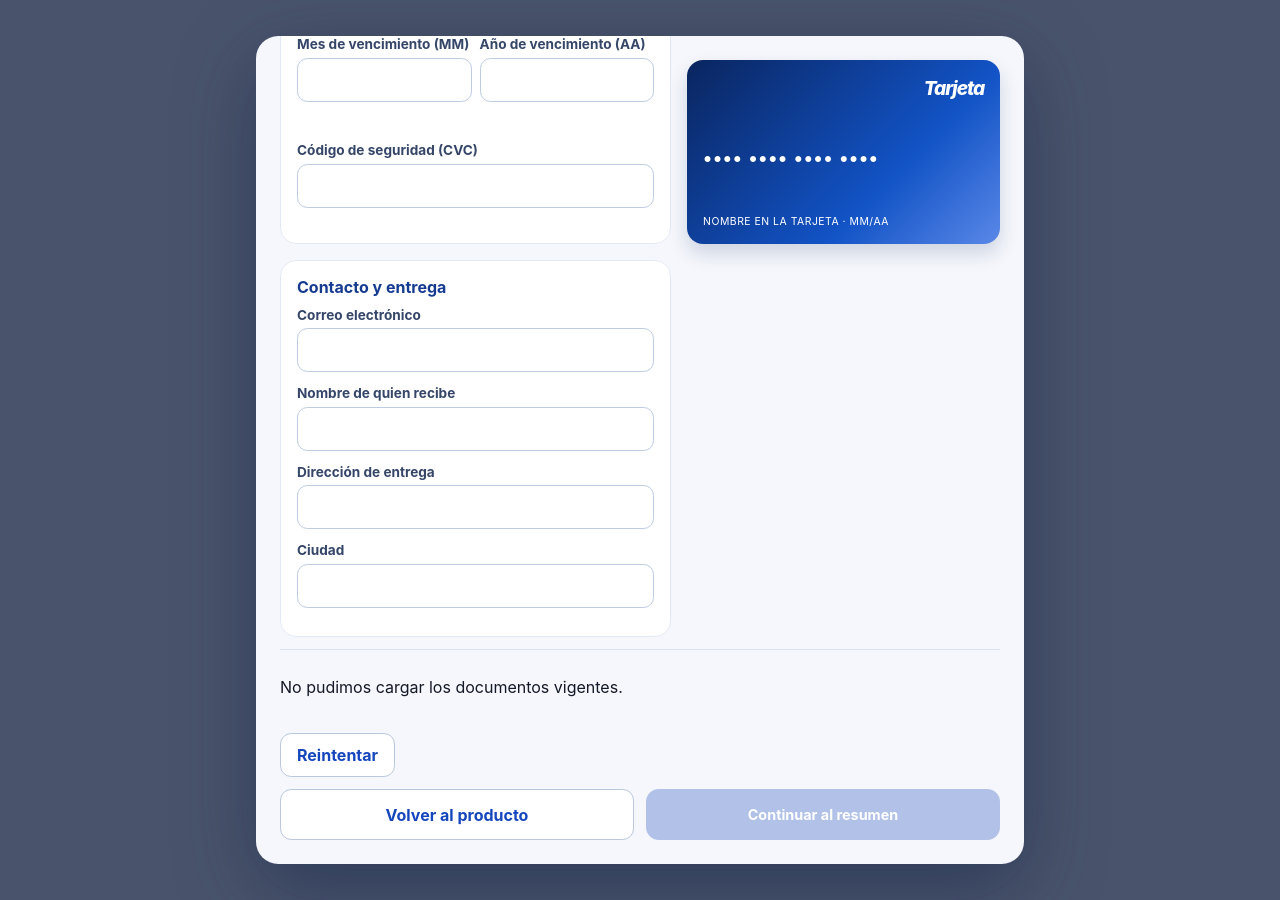
Test: keeps submission disabled on consent error and offers retry
(page scrolled)
Check: the text "No pudimos cargar los documentos vigentes." is shown, box [280,677,623,697]
Check: the button "Continuar al resumen" is disabled, box [646,789,1000,840]
Click the button "Reintentar". click: (338, 755)
box: [280,733,395,777]
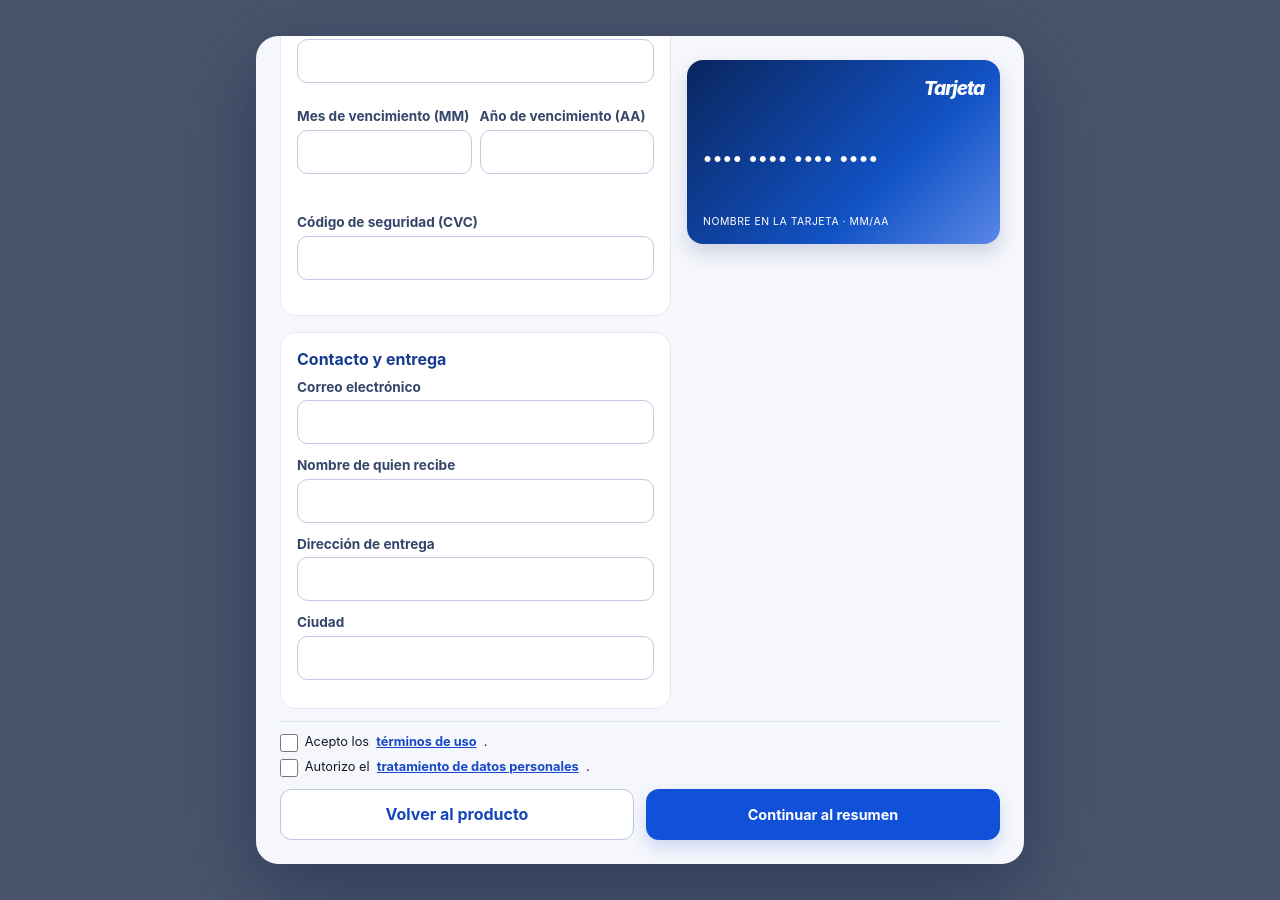
Check: the link "términos de uso" is shown, box [376,733,477,750]
Check: the button "Continuar al resumen" is enabled, box [646,789,1000,840]
